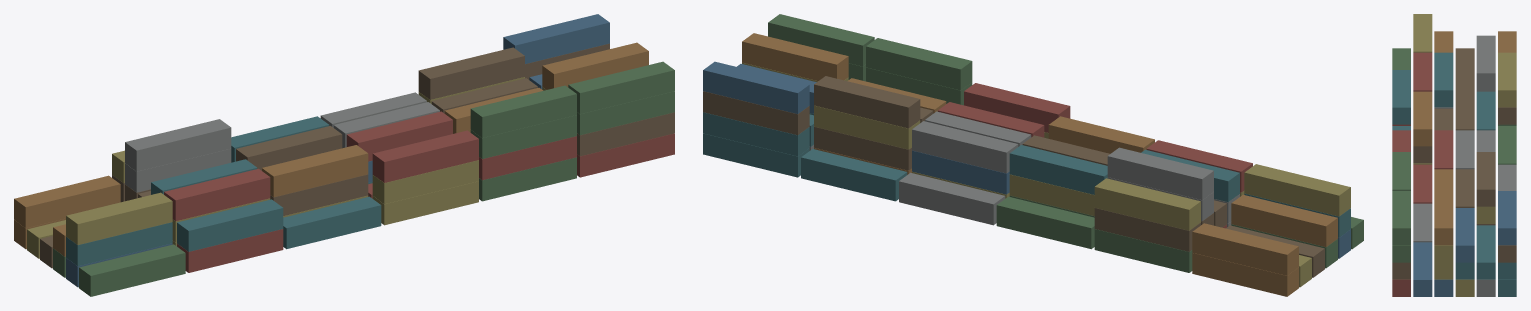
The model's file is container_stack_8.glb.
3 views of the same model, side by side, from view 1: azimuth 30°, elevation 25°; view 2: azimuth 150°, elevation 25°; view 3: azimuth 270°, elevation 25° (orthographic). The views are drawn at different scales.
Parts seen in each view (by area): view 1: LOD0; view 2: LOD0; view 3: LOD0.
Boxes of the visible parts, x1,y1,x2,y2 form: LOD0: (14,14,674,296); LOD0: (703,14,1363,296); LOD0: (1392,14,1516,296).
Size of what is drawn, in the model's own units: 75.2 by 10.38 by 17.1.
